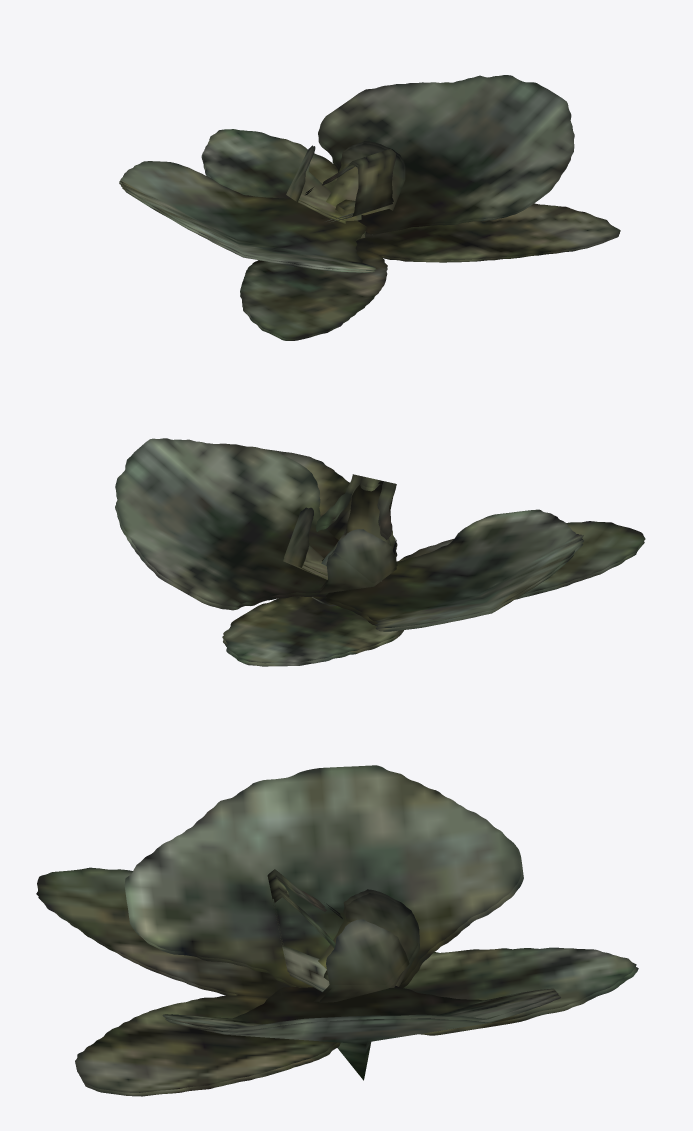
Rendered from rotten_orchid_flower.dae.
3 views of the same model, one above another, from view 1: azimuth 30°, elevation 25°; view 2: azimuth 150°, elevation 25°; view 3: azimuth 270°, elevation 25° (orthographic). The views are drawn at different scales.
Visible parts, largest first — view 1: orchid_mesh4; view 2: orchid_mesh4; view 3: orchid_mesh4.
Part boxes in pixels (x1,y1,x2,y2): orchid_mesh4: (119,75,620,340); orchid_mesh4: (115,438,645,666); orchid_mesh4: (36,765,638,1096).
Size of the model in its own units: 0.204 by 0.0648 by 0.1968.
